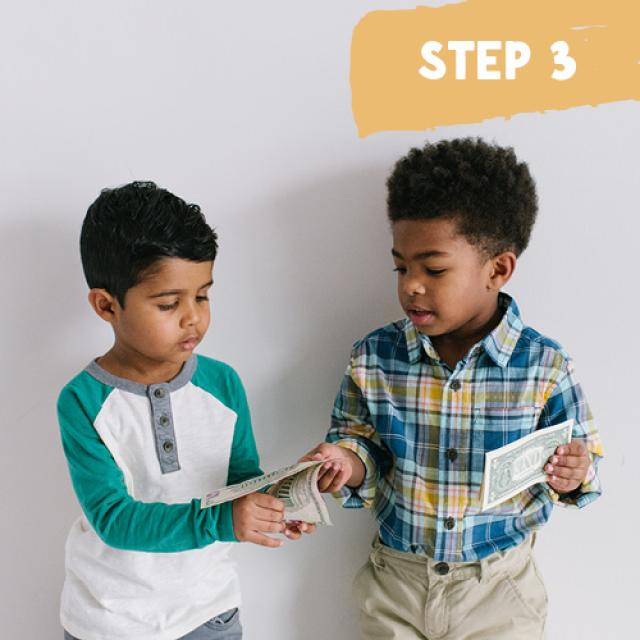child: (292, 138, 604, 640), (60, 178, 320, 640)
